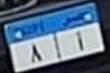8: (28, 43, 42, 64)
أ: (73, 30, 84, 53)
